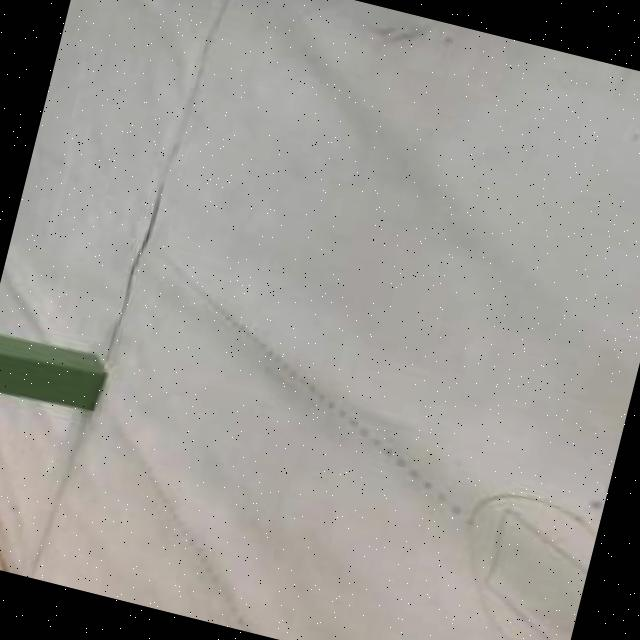greenbox: (0, 326, 115, 423)
